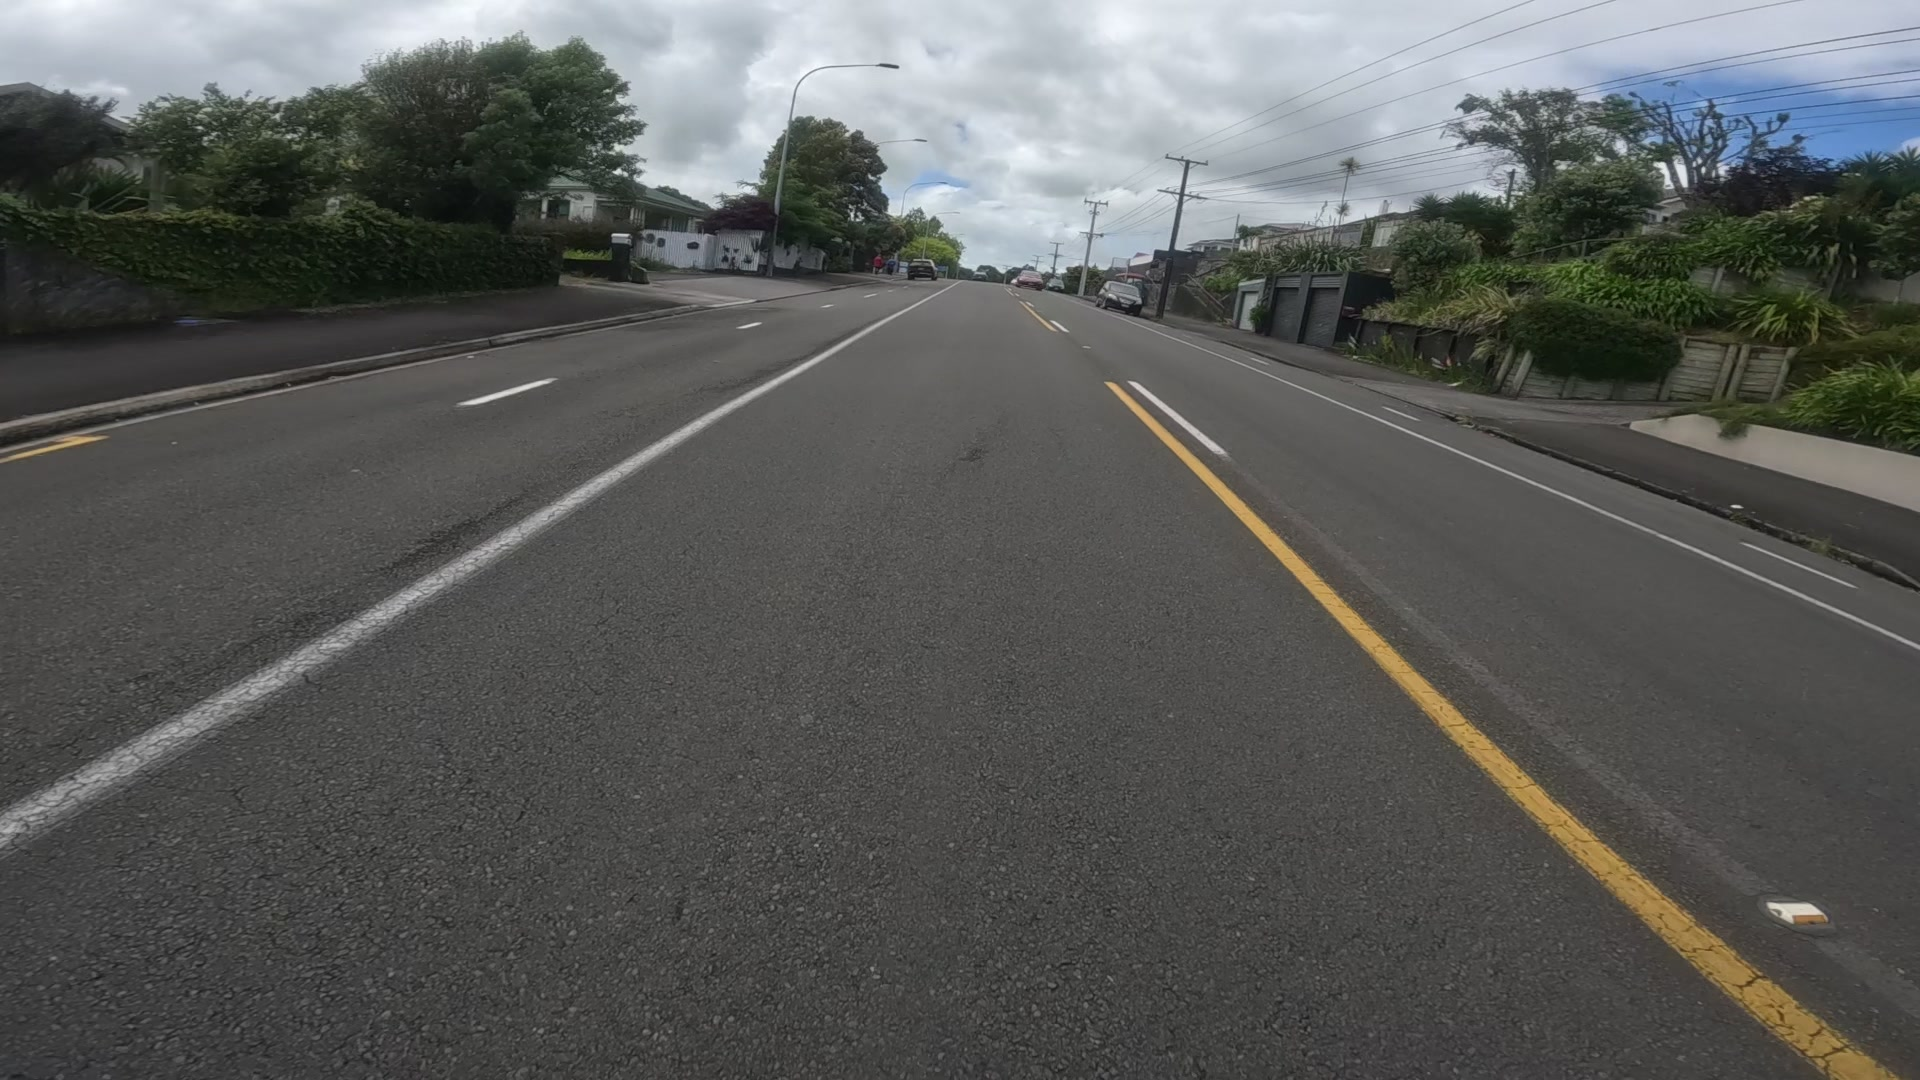Longitudinal_Cracking: (364, 468, 566, 582)
